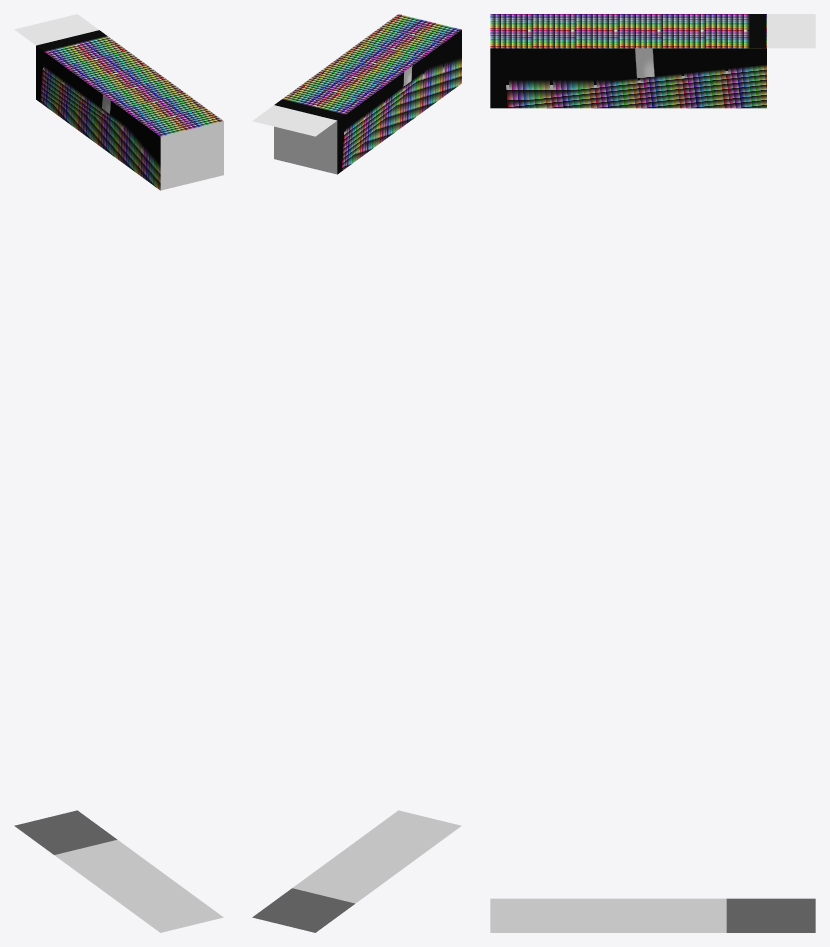
Rendered from ground_line_2_q.fbx.
3 renders of one model, left to right at view 1: azimuth 30°, elevation 25°; view 2: azimuth 150°, elevation 25°; view 3: azimuth 270°, elevation 25°, orthographic. The views are drawn at different scales.
Parts seen in each view (by area): view 1: shadowsOnly, ground_line_2_q, ceiling_line_2_q; view 2: shadowsOnly, ground_line_2_q, ceiling_line_2_q; view 3: shadowsOnly, ground_line_2_q, ceiling_line_2_q.
Part boxes in pixels (x1=…): shadowsOnly: x1=36, y1=30, x2=223, y2=190; ground_line_2_q: x1=14, y1=810, x2=223, y2=932; ceiling_line_2_q: x1=14, y1=14, x2=98, y2=45; shadowsOnly: x1=274, y1=14, x2=461, y2=174; ground_line_2_q: x1=252, y1=810, x2=461, y2=932; ceiling_line_2_q: x1=252, y1=105, x2=336, y2=138; shadowsOnly: x1=490, y1=14, x2=766, y2=108; ground_line_2_q: x1=490, y1=898, x2=815, y2=932; ceiling_line_2_q: x1=767, y1=14, x2=815, y2=48.
Size of what is drawn, in the model's own units: 25 by 300 by 100.
